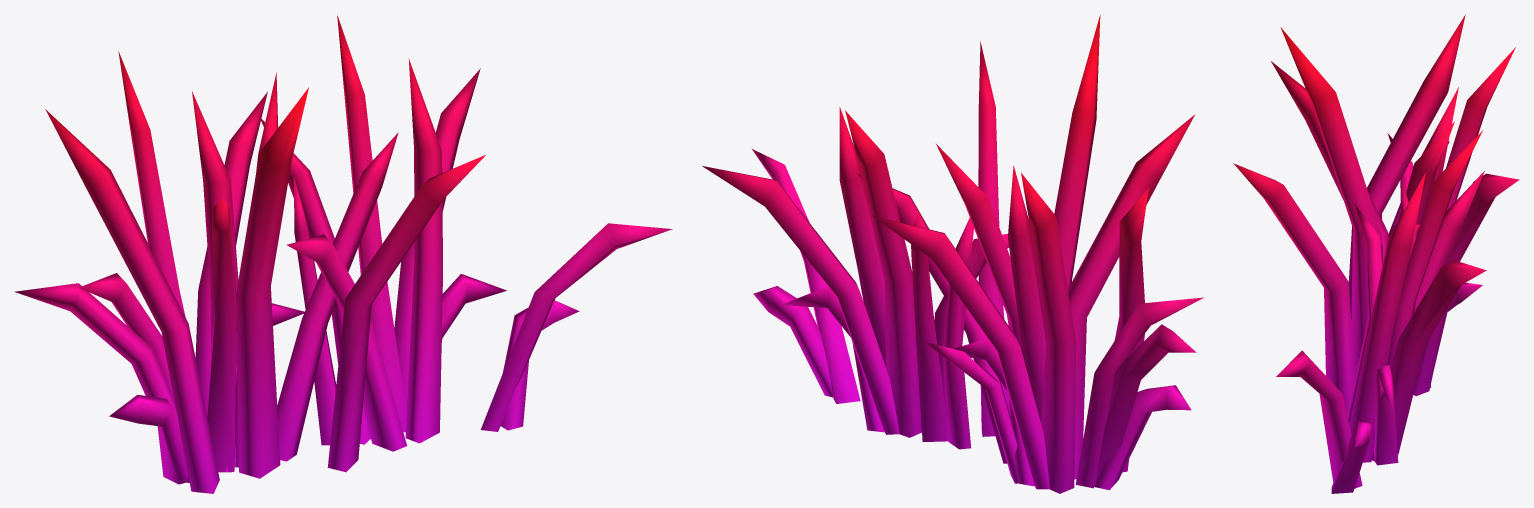
The model's file is SM_Plant_Grass_01.fbx.
3 views of the same model, side by side, from view 1: azimuth 30°, elevation 25°; view 2: azimuth 150°, elevation 25°; view 3: azimuth 270°, elevation 25° (orthographic). The views are drawn at different scales.
Parts seen in each view (by area): view 1: SM_Plant_Grass_01; view 2: SM_Plant_Grass_01; view 3: SM_Plant_Grass_01.
Part boxes in pixels (box(x1,y1,x2,y2)): SM_Plant_Grass_01: box(14, 15, 672, 493); SM_Plant_Grass_01: box(702, 15, 1203, 493); SM_Plant_Grass_01: box(1233, 14, 1519, 493).
Size of the model in its own units: 96.2 by 69.64 by 49.39.
